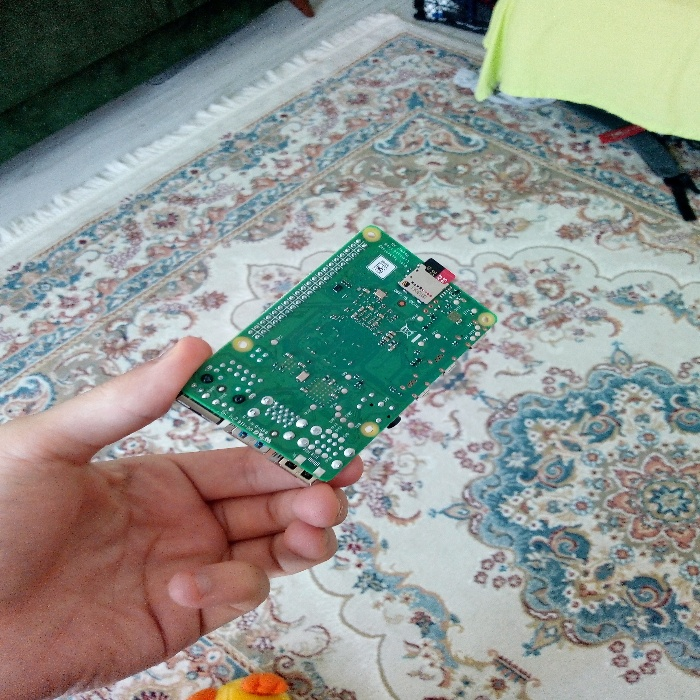raspberry: (177, 201, 478, 491)
